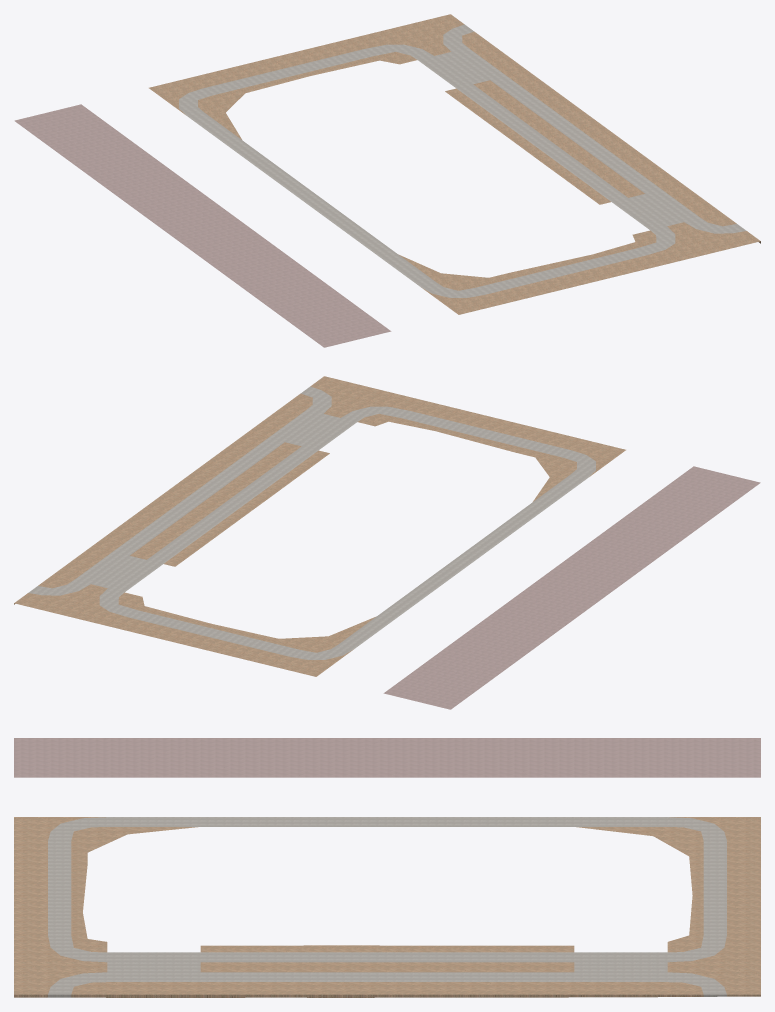
File: vgseland12_lvs.obj
3 renders of one model, top to bottom at view 1: azimuth 30°, elevation 25°; view 2: azimuth 150°, elevation 25°; view 3: azimuth 270°, elevation 25°, orthographic. The views are drawn at different scales.
Visible parts, largest first — view 1: vgsEland12_lvs; view 2: vgsEland12_lvs; view 3: vgsEland12_lvs.
Part boxes in pixels (bbox=[...]): vgsEland12_lvs: bbox=[14, 14, 760, 347]; vgsEland12_lvs: bbox=[14, 376, 760, 709]; vgsEland12_lvs: bbox=[14, 738, 760, 997].
Bounding box in the file's own units: 130 × 0.7707 × 160.
Materials: 3 (3 with a texture image).
